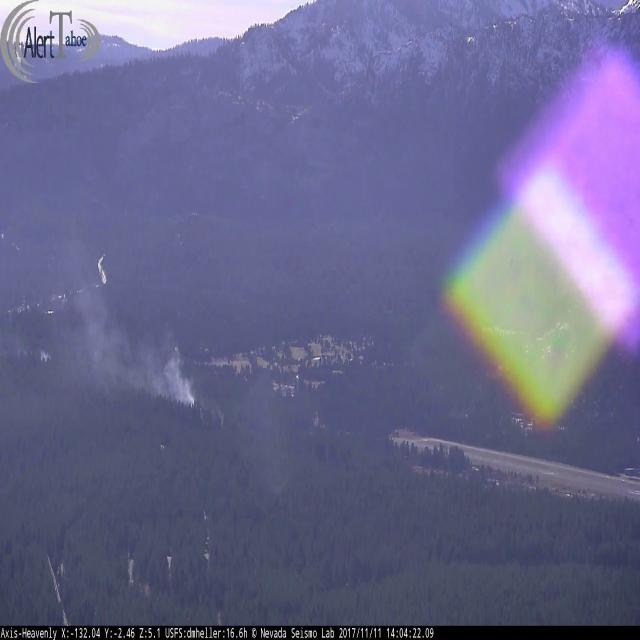smoke: (1, 208, 197, 406)
